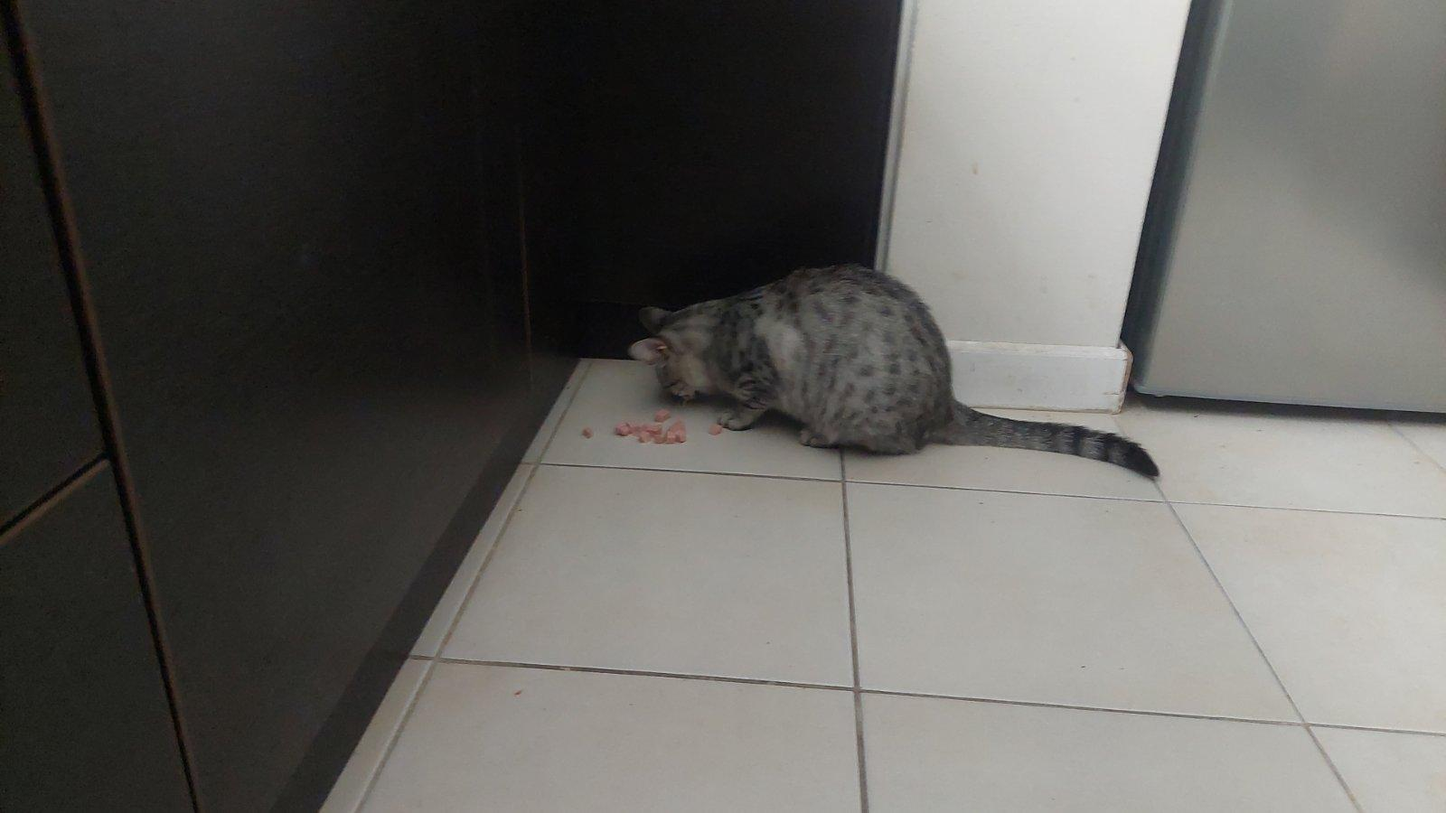macka: (628, 261, 1162, 479)
